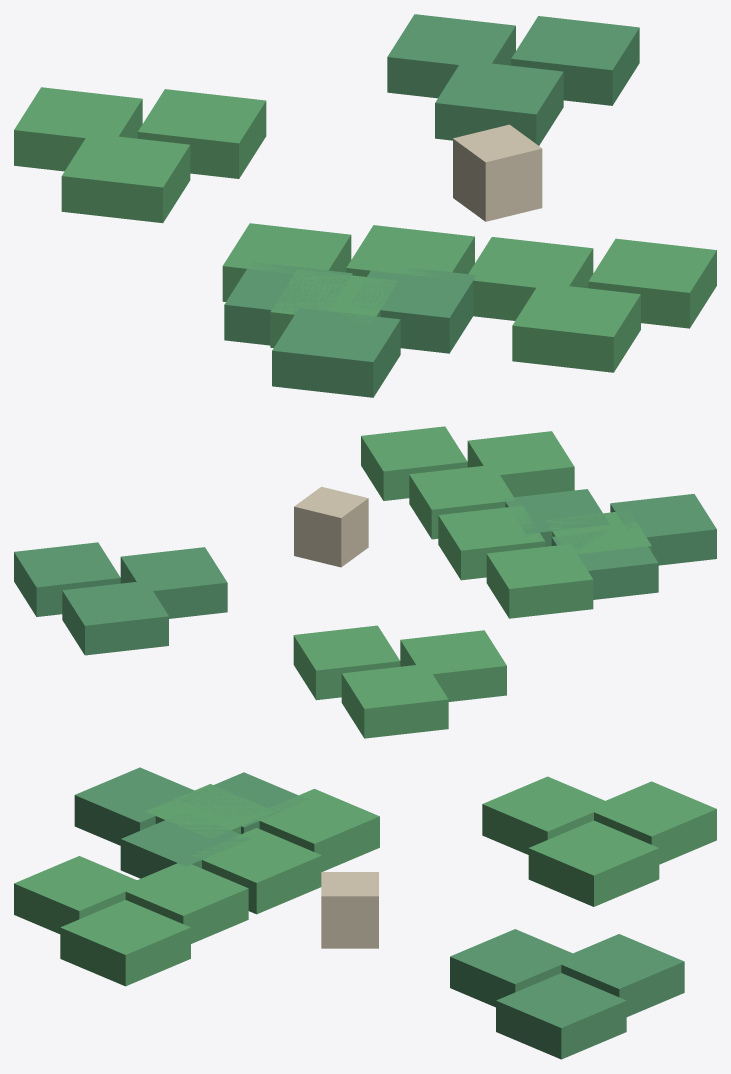
The model's file is clover-patch.glb.
The picture shows the model from 3 angles, top to bottom: view 1: azimuth 30°, elevation 25°; view 2: azimuth 150°, elevation 25°; view 3: azimuth 270°, elevation 25°; orthographic projection. The views are drawn at different scales.
Parts seen in each view (by area): view 1: clover-patch_body; view 2: clover-patch_body; view 3: clover-patch_body.
Part boxes in pixels (x1,y1,x2,y2): clover-patch_body: (14, 14, 716, 397); clover-patch_body: (14, 426, 716, 738); clover-patch_body: (14, 767, 716, 1059).
Bounding box in the file's own units: 0.534 × 0.06 × 0.6084.
